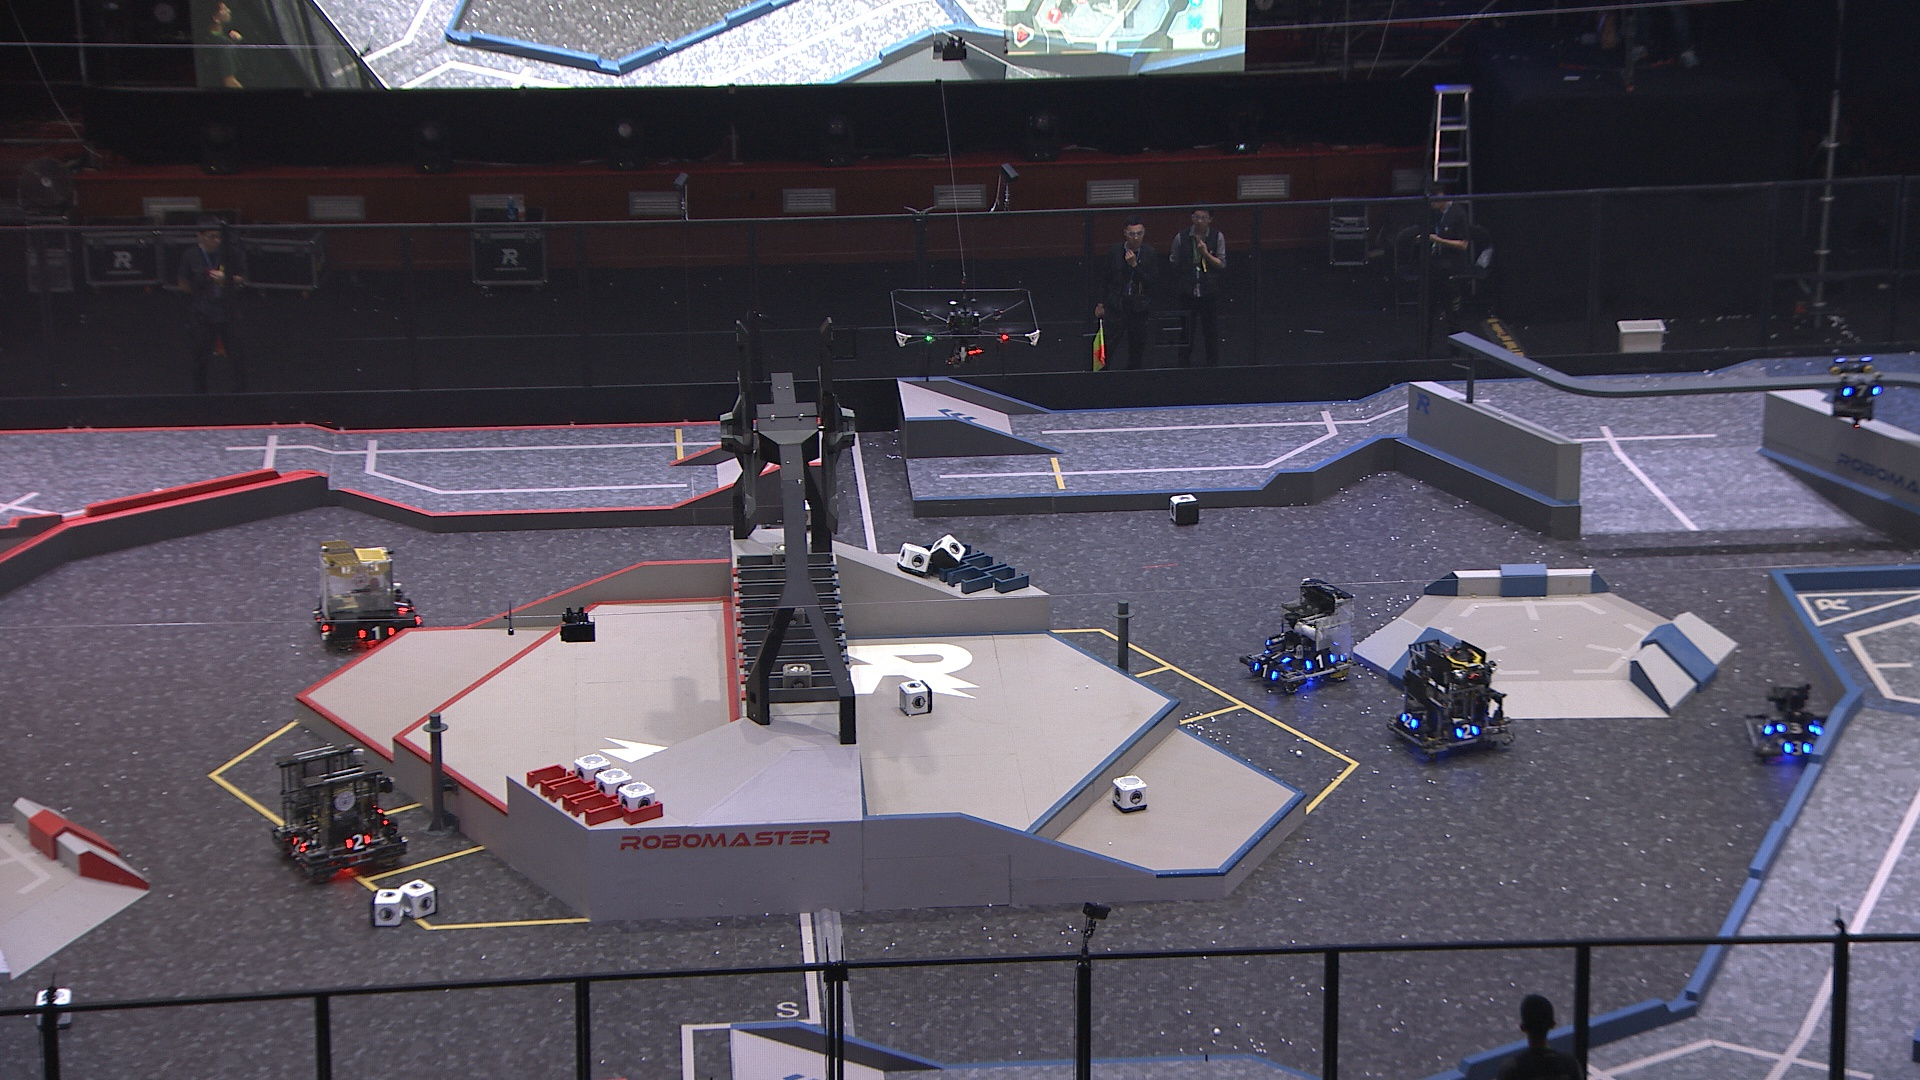armor: (1841, 381, 1880, 401), (342, 831, 373, 851), (1249, 662, 1280, 680), (359, 626, 396, 642), (1304, 651, 1335, 670), (1775, 721, 1815, 735), (1455, 723, 1480, 740), (311, 612, 328, 636), (1400, 711, 1420, 731), (1267, 647, 1290, 665), (1785, 741, 1812, 756), (290, 832, 306, 855), (394, 593, 409, 617)
car: (272, 740, 409, 880), (1385, 638, 1513, 757), (1237, 574, 1354, 694), (309, 543, 423, 646), (1746, 683, 1836, 765)
watcher: (1826, 353, 1883, 431)
